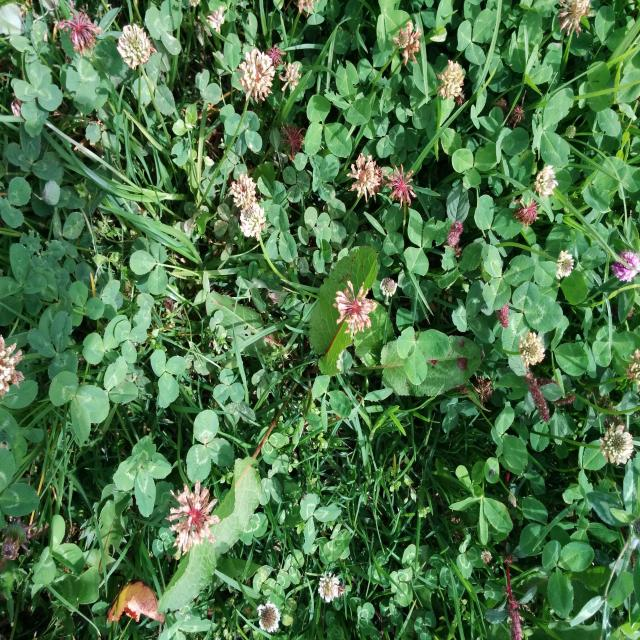Four Leaf Clover: (113, 435, 170, 517)
